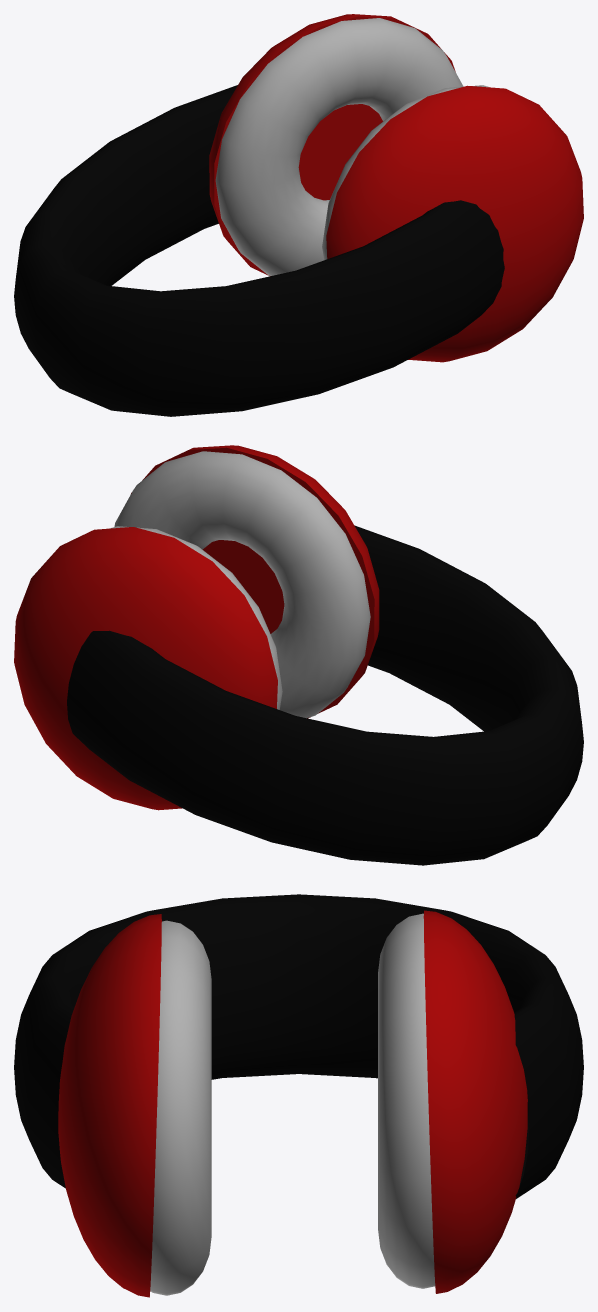
The model's file is headphone.fbx.
The picture shows the model from 3 angles, top to bottom: view 1: azimuth 30°, elevation 25°; view 2: azimuth 150°, elevation 25°; view 3: azimuth 270°, elevation 25°; orthographic projection. The views are drawn at different scales.
Parts seen in each view (by area): view 1: pTorus5; view 2: pTorus5; view 3: pTorus5.
Part boxes in pixels (bbox=[...]): pTorus5: bbox=[14, 14, 583, 416]; pTorus5: bbox=[14, 445, 583, 865]; pTorus5: bbox=[14, 894, 583, 1297].
Bounding box in the file's own units: 10.82 × 5.6 × 8.33.
